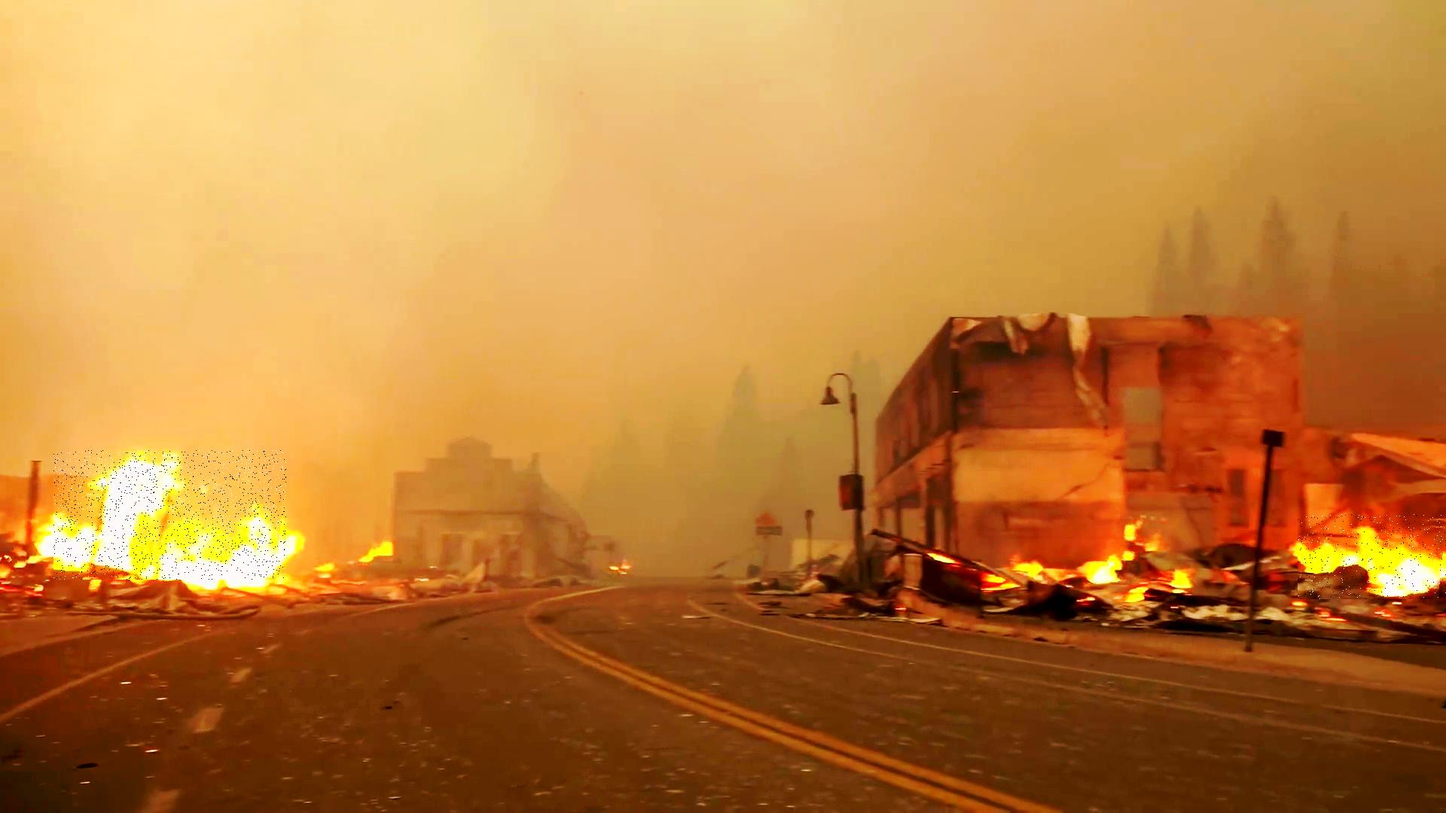fire: (54, 450, 286, 580), (1298, 514, 1446, 599)
